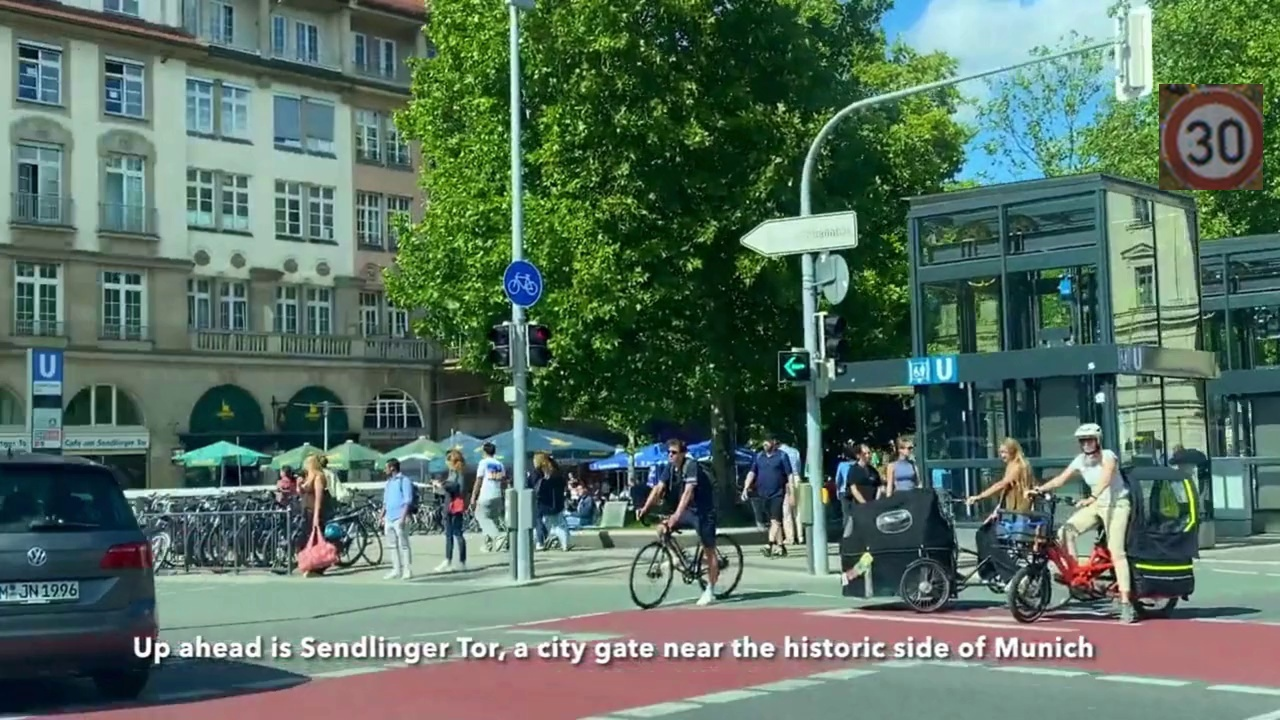Speed 30: (1159, 84, 1263, 190)
